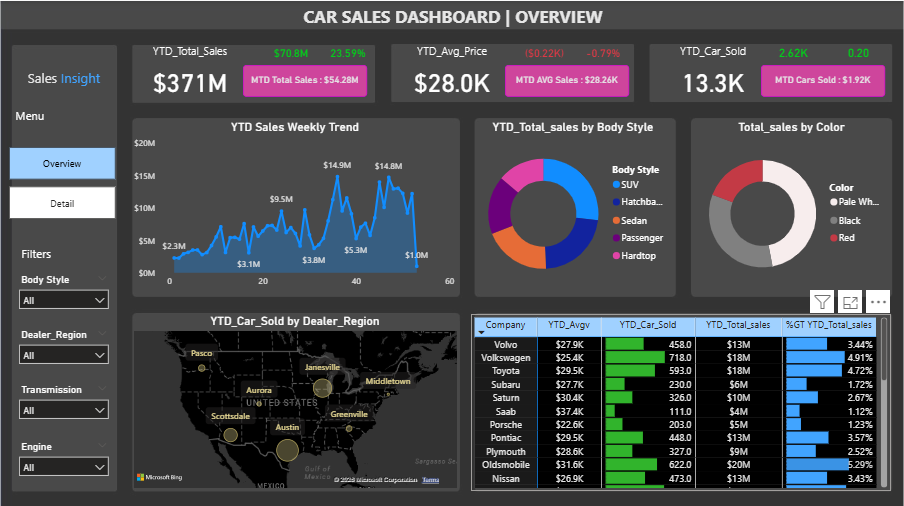

This screenshot's page, from the dashboard's own definition file:
{"tool":"powerbi","page":{"name":"Overview","canvas":[1280,720],"ordinal":0},"visuals":[{"type":"card","title":"YTD_Total_Sales","fields":{"Values":["car_data.YTD_Total_sales"]},"box":[184.3,59.5,170.1,86.5],"z":0},{"type":"card","fields":{"Values":["car_data.sales_diff"]},"box":[378.4,59.5,68,31.2],"z":1000},{"type":"card","fields":{"Values":["car_data.YoY_sales"]},"box":[456.4,59.5,73.7,31.2],"z":2000},{"type":"card","fields":{"Values":["car_data.MTD_KPI"]},"box":[344.4,90.7,175.7,45.4],"z":3000},{"type":"card","title":"YTD_Avg_Price","fields":{"Values":["car_data.YTD_Avgv"]},"box":[555.6,59.5,170.1,86.5],"z":4000},{"type":"card","fields":{"Values":["car_data.Avg_Diff"]},"box":[725.7,59.5,92.1,31.2],"z":5000},{"type":"card","fields":{"Values":["car_data.YoY_Avg_Growth"]},"box":[817.8,59.5,73.7,31.2],"z":6000},{"type":"card","fields":{"Values":["car_data.MTD_AVG_KPI"]},"box":[715.7,90.7,175.7,45.4],"z":7000},{"type":"card","title":"YTD_Car_Sold","fields":{"Values":["car_data.YTD_Car_Sold"]},"box":[925.5,59.5,170.1,86.5],"z":8000},{"type":"card","fields":{"Values":["car_data.Car_sold_diff"]},"box":[1078.6,59.5,92.1,25.5],"z":9000},{"type":"card","fields":{"Values":["car_data.yoy_car_growth"]},"box":[1170.7,59.5,92.1,25.5],"z":10000},{"type":"card","fields":{"Values":["car_data.MTD_Car_KPI"]},"box":[1078.6,90.7,175.7,45.4],"z":11000},{"type":"areaChart","title":"YTD Sales Weekly Trend","fields":{"Category":["calendar.Weeknum"],"Y":["Sum(car_data.Price ($))"]},"box":[184.3,168.7,467.7,246.6],"z":12000},{"type":"donutChart","fields":{"Category":["car_data.Body Style"],"Y":["car_data.YTD_Total_sales"]},"box":[667.6,168.7,289.1,246.6],"z":13000},{"type":"donutChart","fields":{"Y":["car_data.Total_sales"],"Category":["car_data.Color"]},"box":[980.8,168.7,282,246.6],"z":14000},{"type":"map","fields":{"Category":["car_data.Dealer_Region"],"Size":["car_data.YTD_Car_Sold"]},"box":[184.3,443.6,467.7,250.9],"z":15000},{"type":"pivotTable","fields":{"Values":["car_data.YTD_Avgv","car_data.YTD_Car_Sold","car_data.YTD_Total_sales","Divide(car_data.YTD_Total_sales, ScopedEval(car_data.YTD_Total_sales, []))"],"Rows":["car_data.Company"]},"box":[667.6,443.6,595.3,250.9],"z":16000},{"type":"textbox","box":[4.3,0,1275.6,45.4],"z":17000},{"type":"slicer","fields":{"Values":["car_data.Body Style"]},"box":[17,381.3,147.4,62.4],"z":18000},{"type":"slicer","fields":{"Values":["car_data.Dealer_Region"]},"box":[17,459.2,147.4,62.4],"z":19000},{"type":"slicer","fields":{"Values":["car_data.Transmission"]},"box":[17,537.2,147.4,65.2],"z":20000},{"type":"slicer","fields":{"Values":["car_data.Engine"]},"box":[17,618,147.4,65.2],"z":21000},{"type":"textbox","box":[25.5,341.6,65.2,36.9],"z":22000},{"type":"textbox","box":[17,146,65.2,35.4],"z":22001},{"type":"textbox","box":[17,90.7,147.4,36.9],"z":22002},{"type":"pageNavigator","box":[12.8,206.9,151.7,102],"z":22003}]}

Visuals, with their boxes in screenshot pixels (x1, y1, x2, y2), scaled from the page's 1280x720 canvas onto the 904x506 screenshot:
"YTD_Total_Sales" card: left=130, top=42, right=250, bottom=103
card - car_data.sales_diff: left=267, top=42, right=315, bottom=64
card - car_data.YoY_sales: left=322, top=42, right=374, bottom=64
card - car_data.MTD_KPI: left=243, top=64, right=367, bottom=96
"YTD_Avg_Price" card: left=392, top=42, right=513, bottom=103
card - car_data.Avg_Diff: left=513, top=42, right=578, bottom=64
card - car_data.YoY_Avg_Growth: left=578, top=42, right=630, bottom=64
card - car_data.MTD_AVG_KPI: left=505, top=64, right=630, bottom=96
"YTD_Car_Sold" card: left=654, top=42, right=774, bottom=103
card - car_data.Car_sold_diff: left=762, top=42, right=827, bottom=60
card - car_data.yoy_car_growth: left=827, top=42, right=892, bottom=60
card - car_data.MTD_Car_KPI: left=762, top=64, right=886, bottom=96
"YTD Sales Weekly Trend" areaChart: left=130, top=119, right=460, bottom=292
donutChart - car_data.Body Style x car_data.YTD_Total_sales: left=471, top=119, right=676, bottom=292
donutChart - car_data.Total_sales x car_data.Color: left=693, top=119, right=892, bottom=292
map - car_data.Dealer_Region x car_data.YTD_Car_Sold: left=130, top=312, right=460, bottom=488
pivotTable - car_data.YTD_Avgv x car_data.YTD_Car_Sold: left=471, top=312, right=892, bottom=488
textbox: left=3, top=0, right=903, bottom=32
slicer - car_data.Body Style: left=12, top=268, right=116, bottom=312
slicer - car_data.Dealer_Region: left=12, top=323, right=116, bottom=367
slicer - car_data.Transmission: left=12, top=378, right=116, bottom=423
slicer - car_data.Engine: left=12, top=434, right=116, bottom=480
textbox: left=18, top=240, right=64, bottom=266
textbox: left=12, top=103, right=58, bottom=127
textbox: left=12, top=64, right=116, bottom=90
pageNavigator: left=9, top=145, right=116, bottom=217
